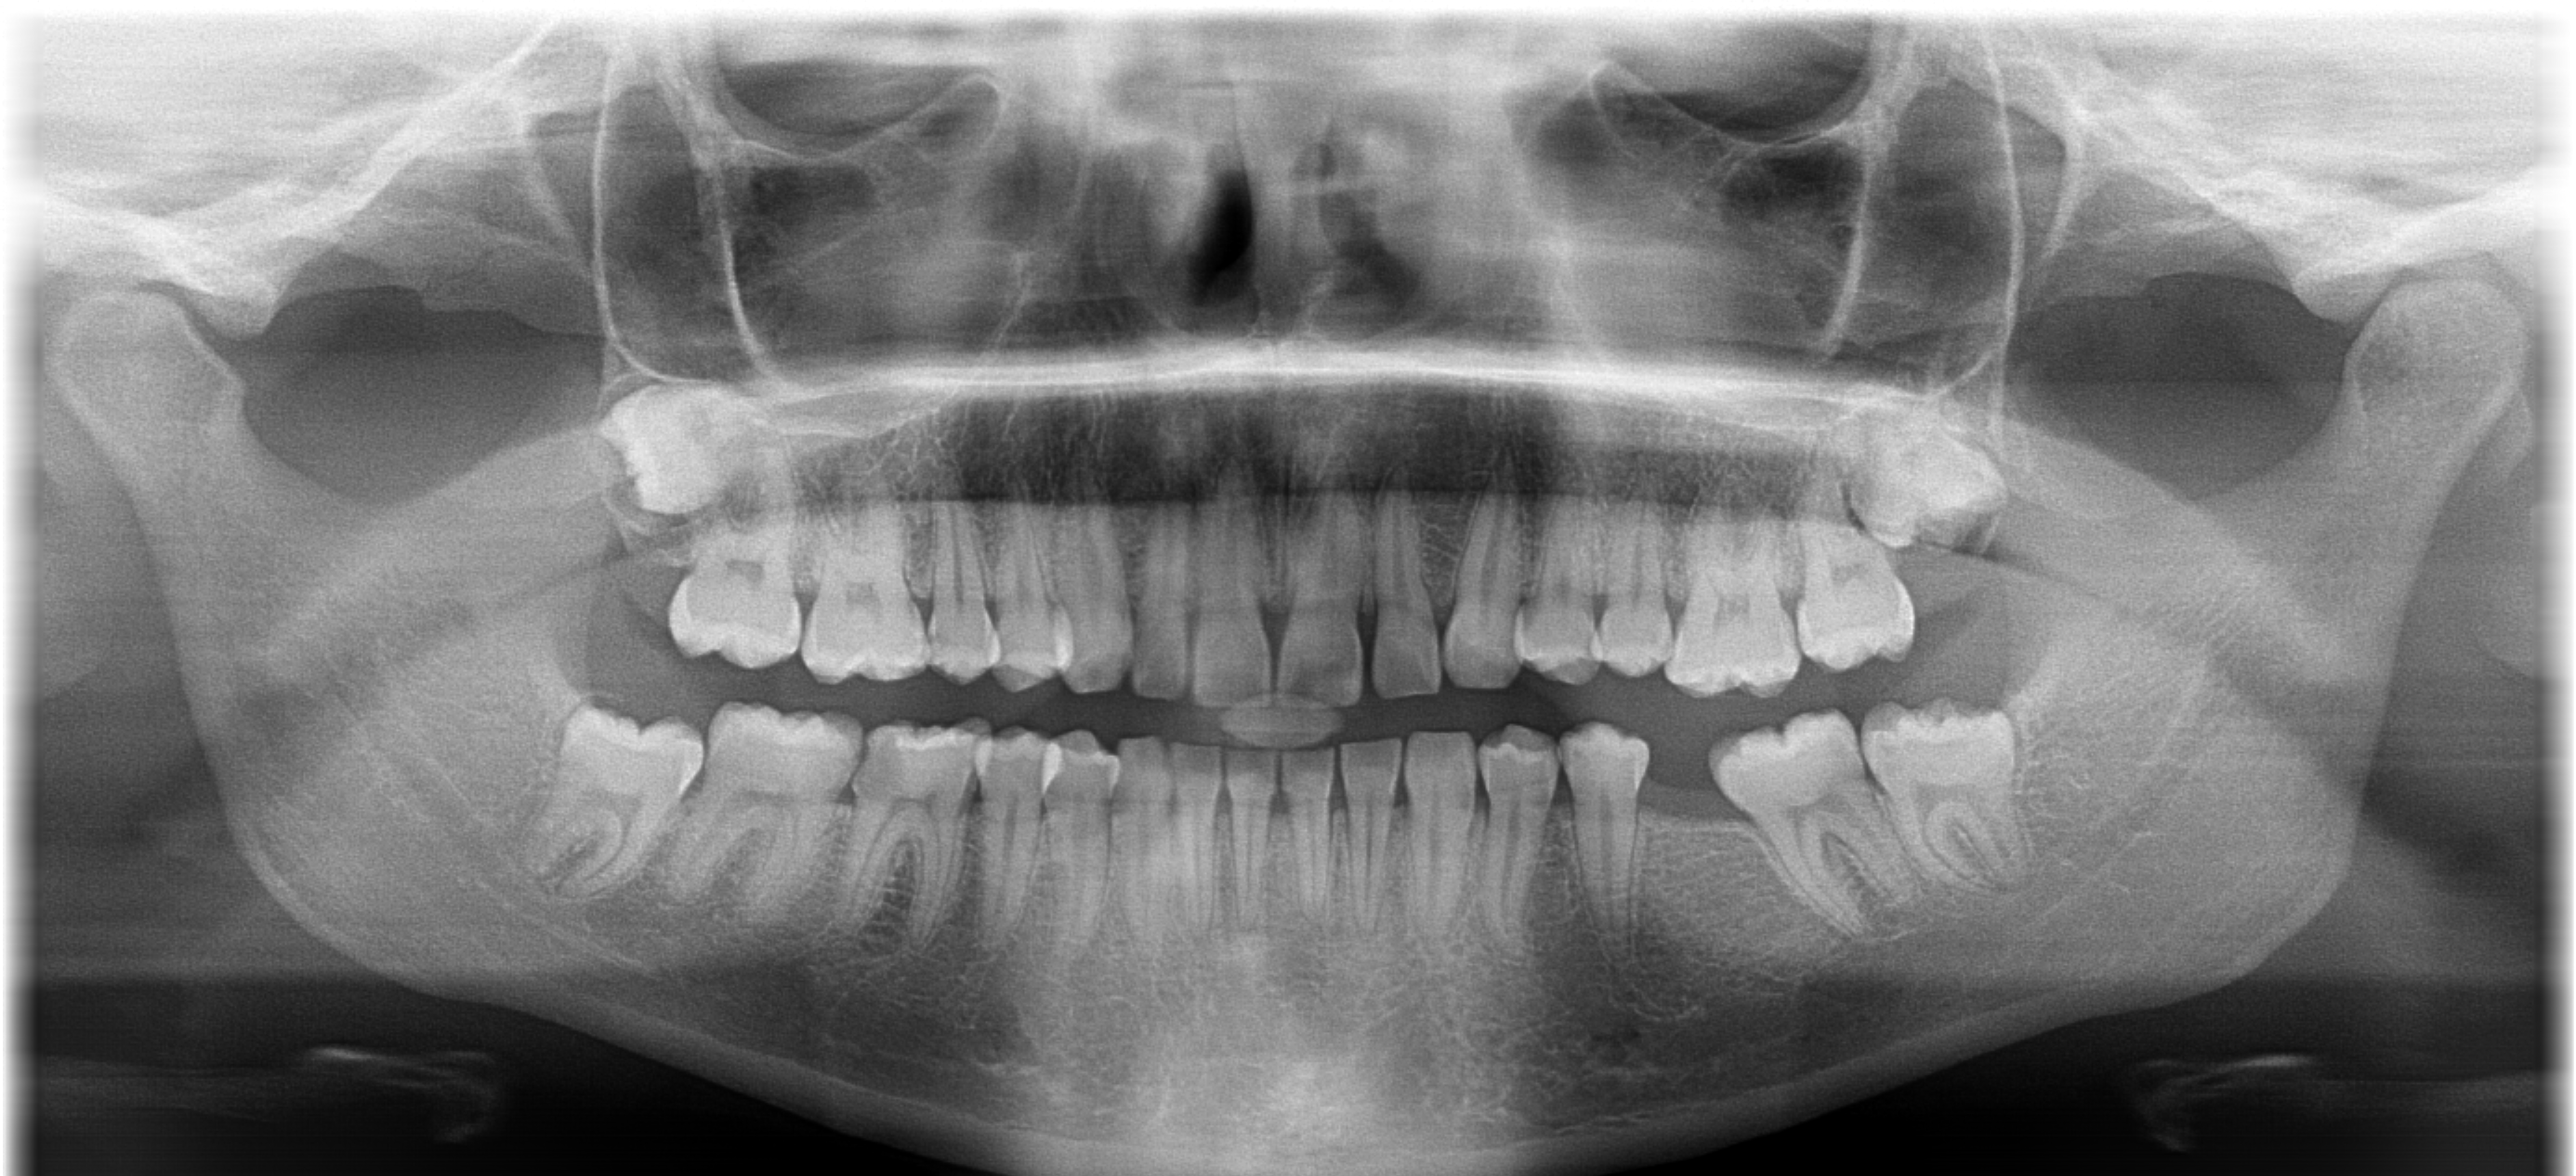cordal: (491, 675, 724, 912), (1842, 675, 2075, 912), (1824, 370, 2057, 604), (570, 332, 802, 568)
diastema: (1237, 504, 1306, 724), (1336, 499, 1405, 719)
zona_dentula: (1607, 691, 1805, 946)
